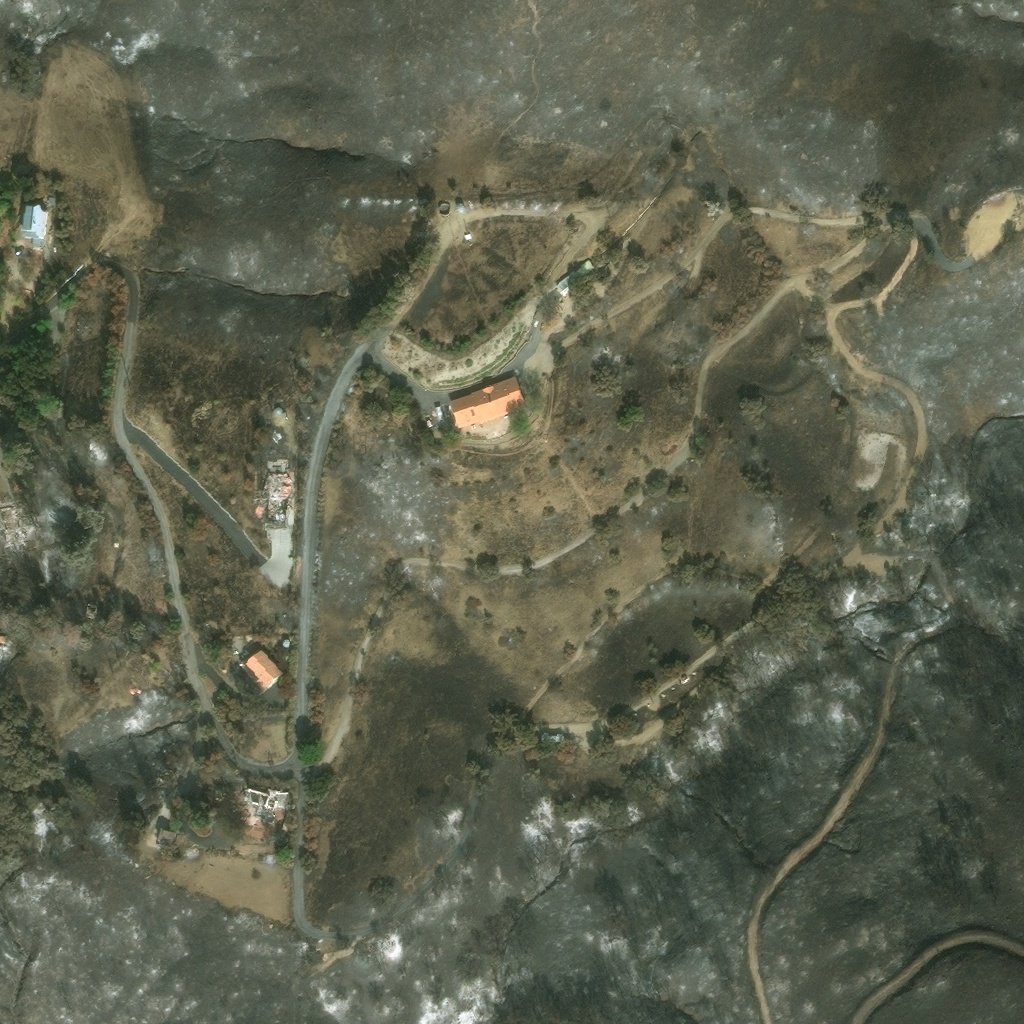0 no-damage: (447, 375, 526, 430), (244, 648, 284, 692), (555, 259, 597, 296), (20, 203, 48, 239), (156, 827, 178, 845), (273, 406, 284, 415), (455, 201, 464, 211), (463, 232, 472, 240), (281, 639, 290, 647), (680, 675, 687, 681), (49, 195, 54, 202), (232, 650, 238, 655)
2 major-damage: (438, 201, 452, 214)
3 destroyed: (240, 787, 288, 825), (261, 469, 288, 526), (0, 502, 29, 554), (75, 314, 96, 334), (539, 731, 565, 745), (277, 823, 292, 841), (182, 844, 199, 859), (130, 683, 141, 694), (0, 634, 8, 645), (250, 845, 260, 851)
4 un-classified: (642, 735, 668, 758)
